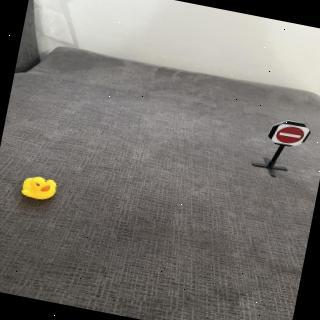duck_regular: (19, 171, 61, 207)
sign_noentry: (271, 120, 314, 151)
